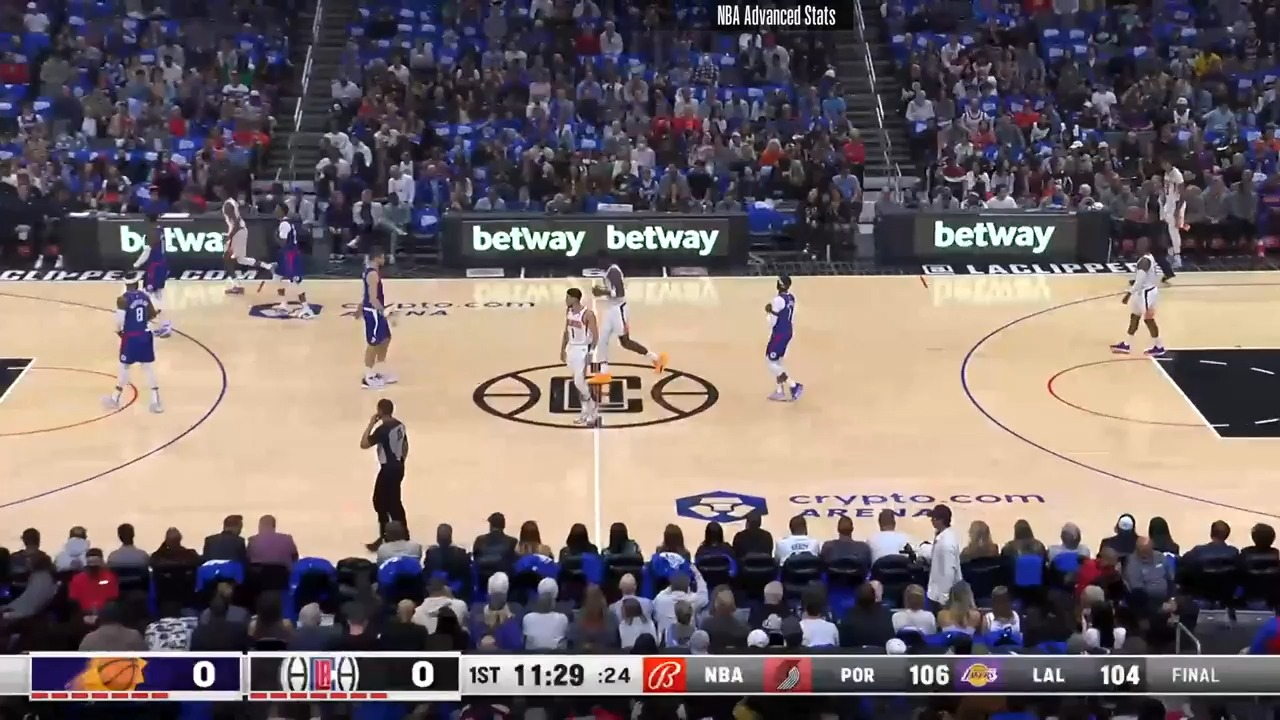player: (583, 249, 660, 379), (108, 277, 166, 422), (556, 289, 606, 430), (215, 186, 274, 300), (360, 245, 404, 393), (1114, 242, 1168, 361), (756, 273, 802, 411), (134, 211, 181, 342), (267, 199, 317, 320), (1152, 156, 1193, 281)
referee: (361, 396, 421, 548)
